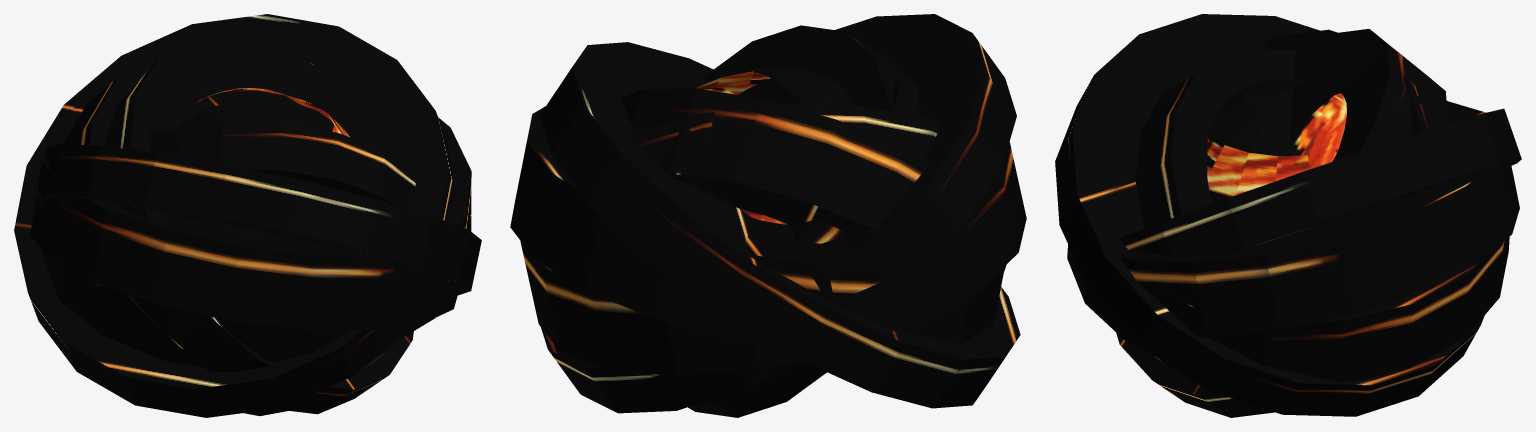
Rendered from frame_089.obj.
The picture shows the model from 3 angles, left to right: view 1: azimuth 30°, elevation 25°; view 2: azimuth 150°, elevation 25°; view 3: azimuth 270°, elevation 25°; orthographic projection. The views are drawn at different scales.
Parts seen in each view (by area): view 1: cylinder, sphere; view 2: cylinder, sphere; view 3: cylinder, sphere.
Boxes of the visible parts, left/top/right/bottom form: cylinder: left=14, top=14, right=481, bottom=417; sphere: left=177, top=88, right=349, bottom=136; cylinder: left=510, top=14, right=1026, bottom=417; sphere: left=696, top=65, right=855, bottom=225; cylinder: left=1055, top=14, right=1521, bottom=417; sphere: left=1207, top=79, right=1346, bottom=202.
Bounding box in the file's own units: 1.07 × 0.8038 × 1.09.
5 materials, 5 textured.
